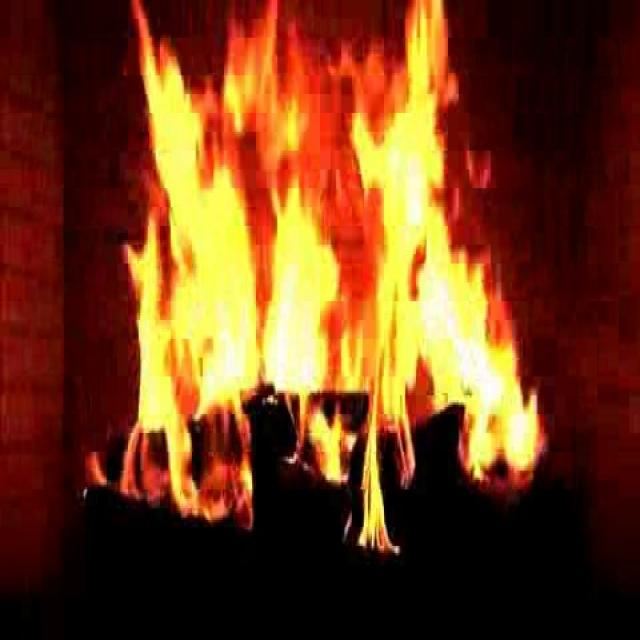fire: (118, 28, 530, 515)
